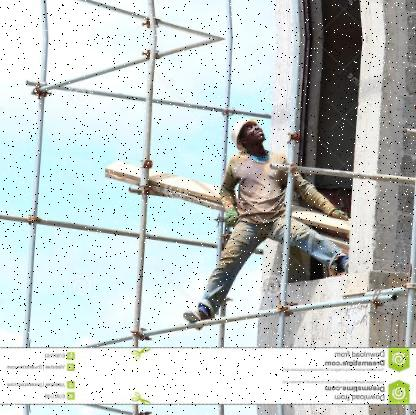helmet: (236, 118, 268, 151)
